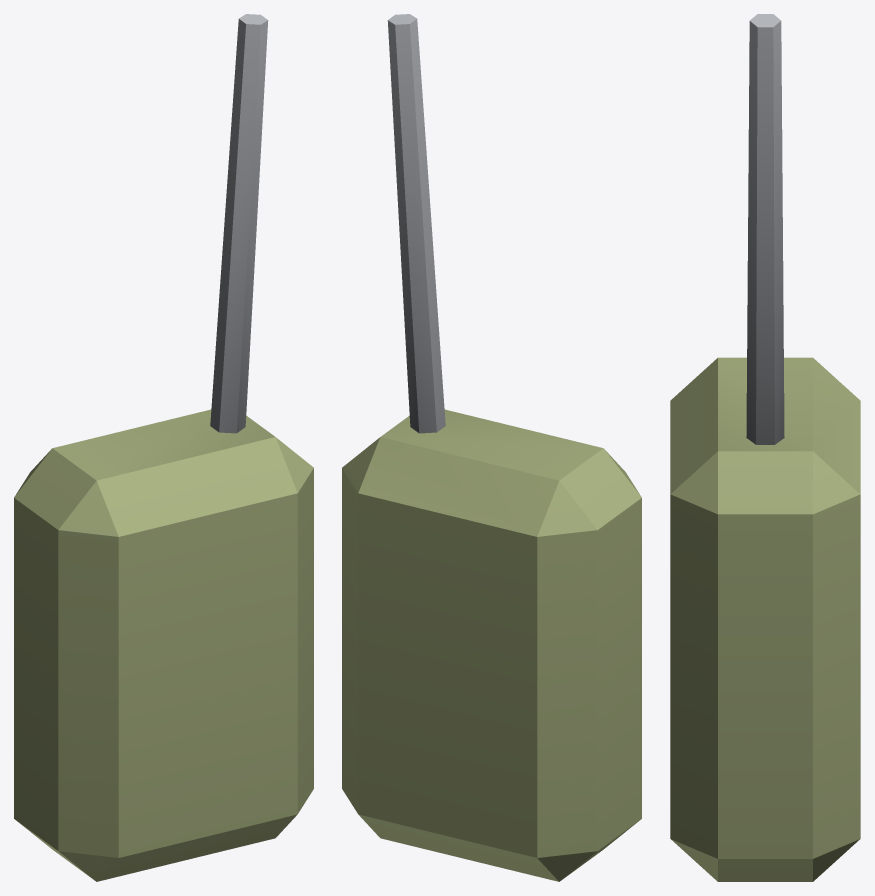
Rendered from ArtilleryStrikeLauncher.fbx.
3 views of the same model, side by side, from view 1: azimuth 30°, elevation 25°; view 2: azimuth 150°, elevation 25°; view 3: azimuth 270°, elevation 25° (orthographic). The views are drawn at different scales.
Visible parts, largest first — view 1: radio; view 2: radio; view 3: radio.
Boxes of the visible parts, x1,y1,x2,y2 form: radio: (14,14,313,881); radio: (342,14,641,881); radio: (670,14,860,881).
Bounding box in the file's own units: 0.2 × 0.6006 × 0.12.
